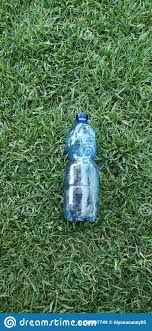plastic_bottle: (63, 108, 101, 226)
